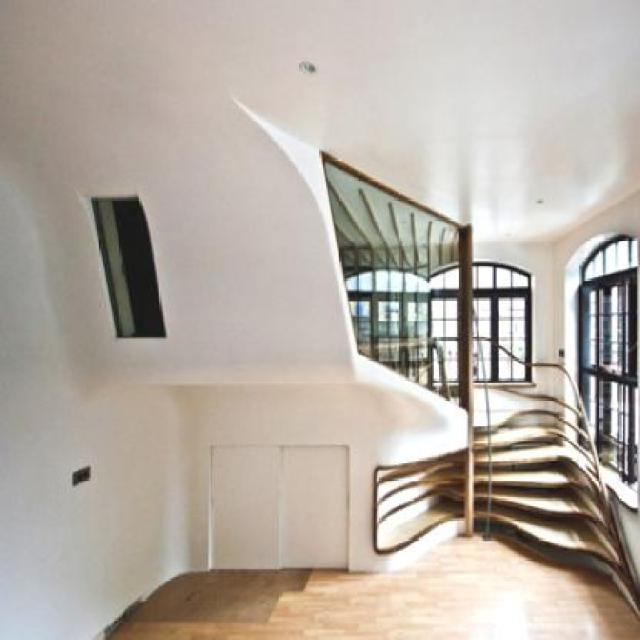stair: (394, 329, 638, 603)
